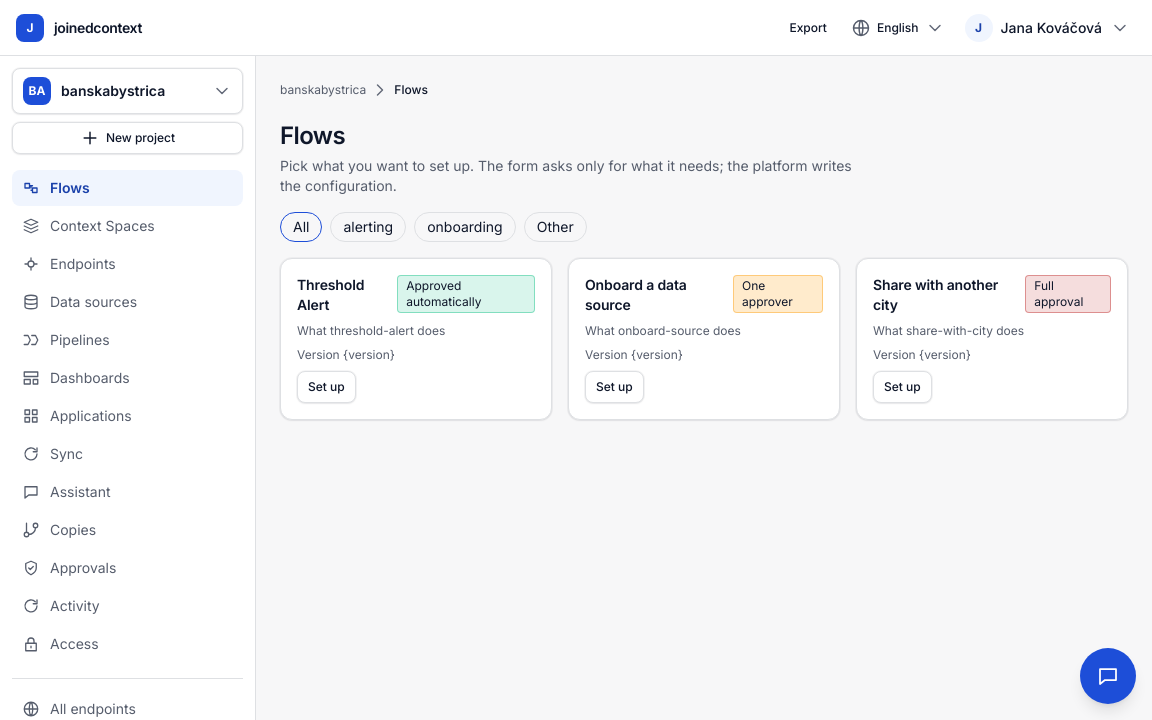
Test: flow gallery › filters the gallery by category and back again (CC-30)
Expected: the heading "Threshold Alert" is shown, [297,276,364,313]
Click the button "onboarding" at (465, 227), box [414,212,516,242]
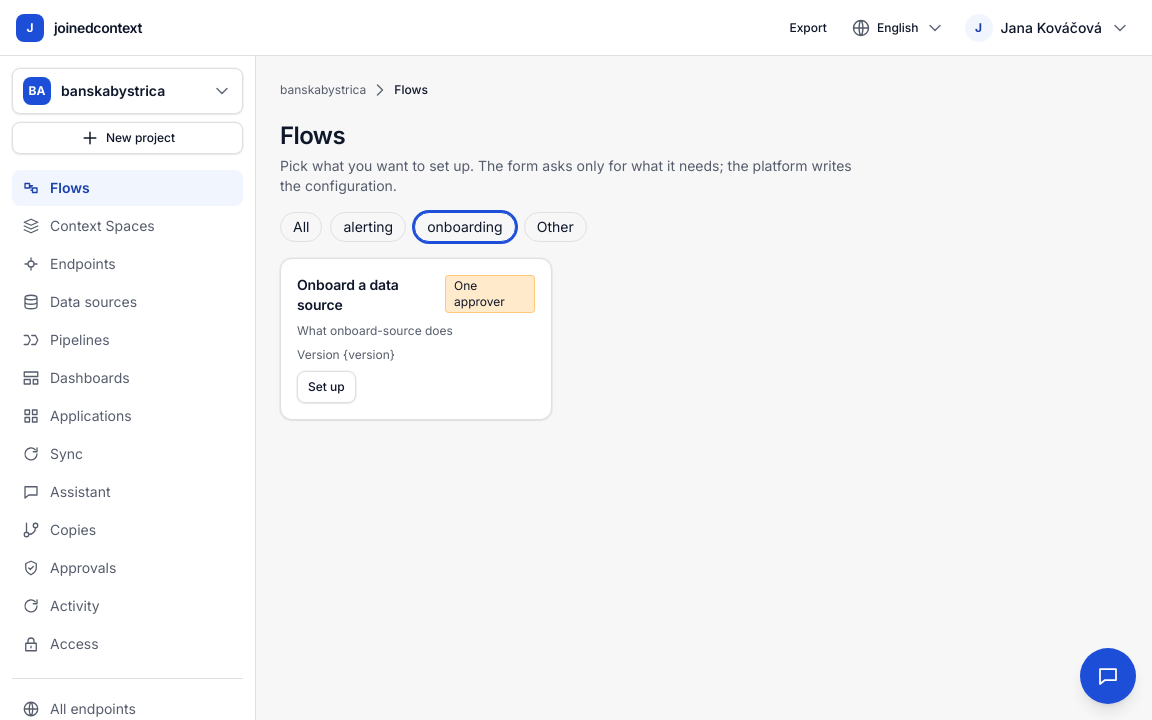
Expected: the heading "Onboard a data source" is shown, [297,276,399,313]
Now the heading "Threshold Alert" is gone
Note: A blueprint with no category is still reachable, under its own chip.
Click the button "Other" at (555, 227), box [524,212,587,242]
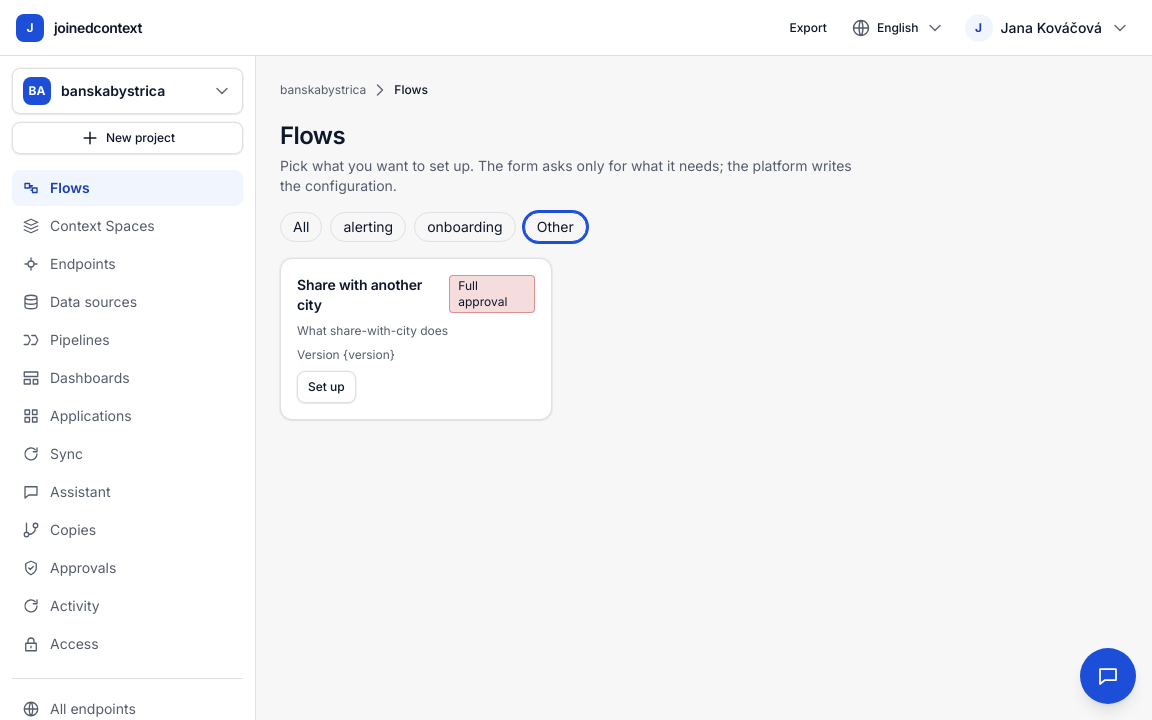
Now the heading "Share with another city" is shown, box [297,275,441,315]
Now the heading "Onboard a data source" is gone
Click the button "All" at (301, 227), box [280,212,322,242]
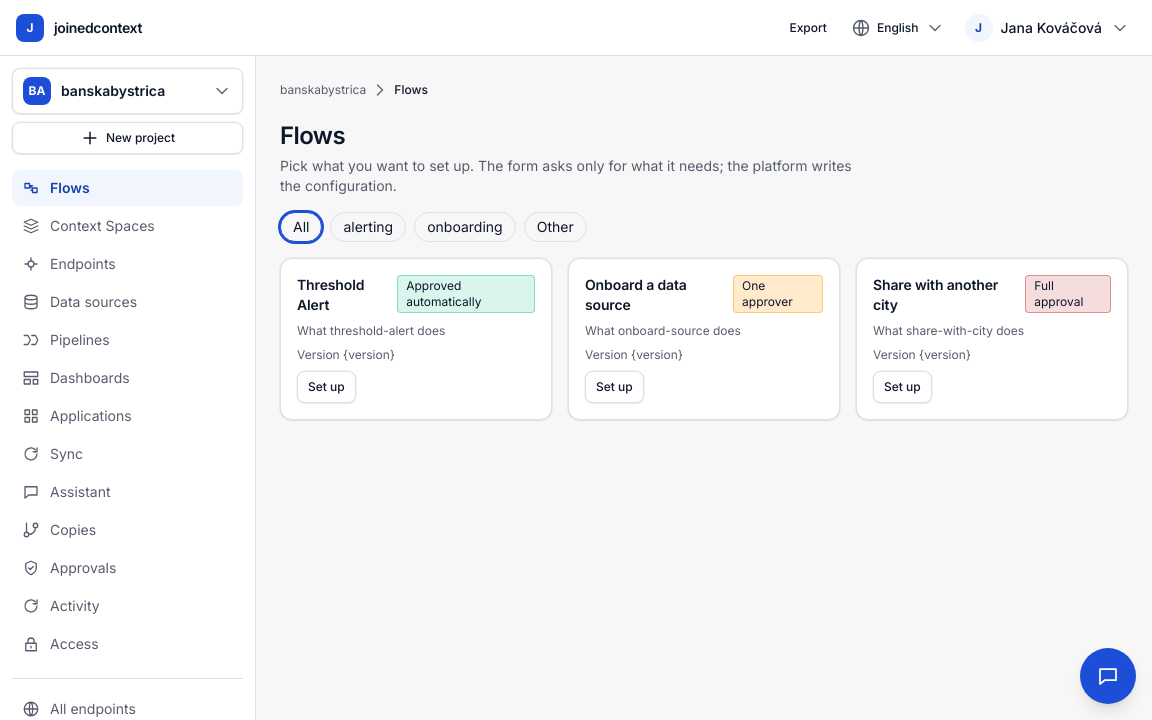
Now the heading "Threshold Alert" is shown, box [297,276,364,313]
Now the heading "Onboard a data source" is shown, box [585,276,687,313]
